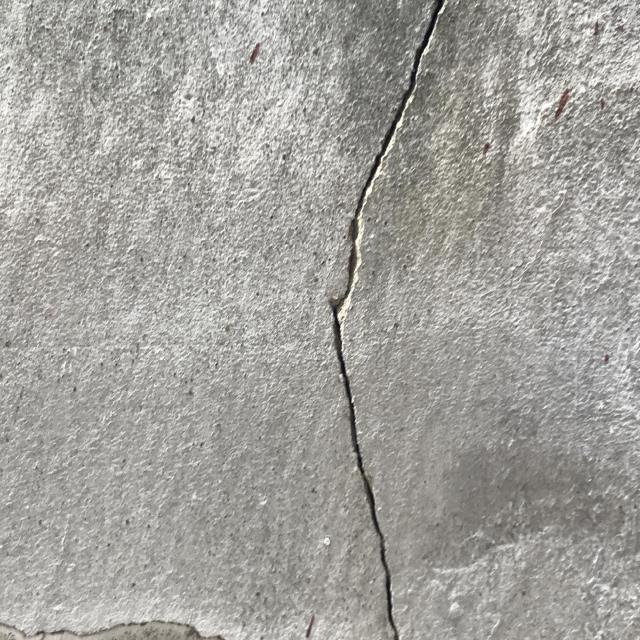SurfaceCrack: (293, 0, 479, 638)
